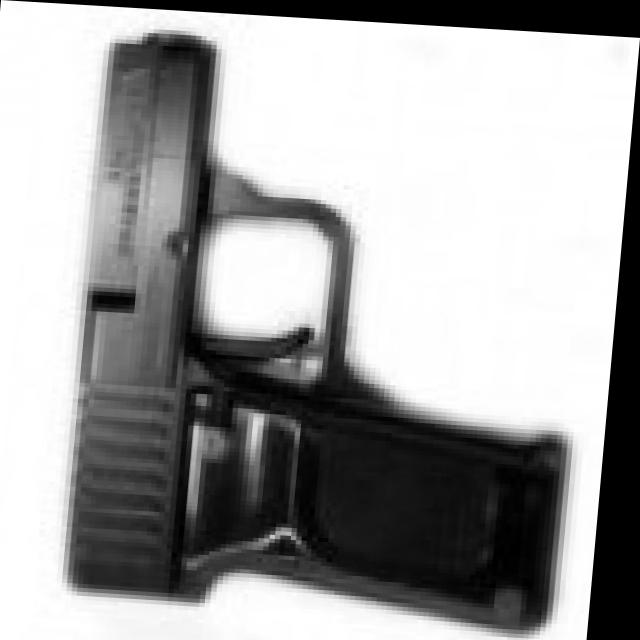handgun: (49, 28, 591, 624)
